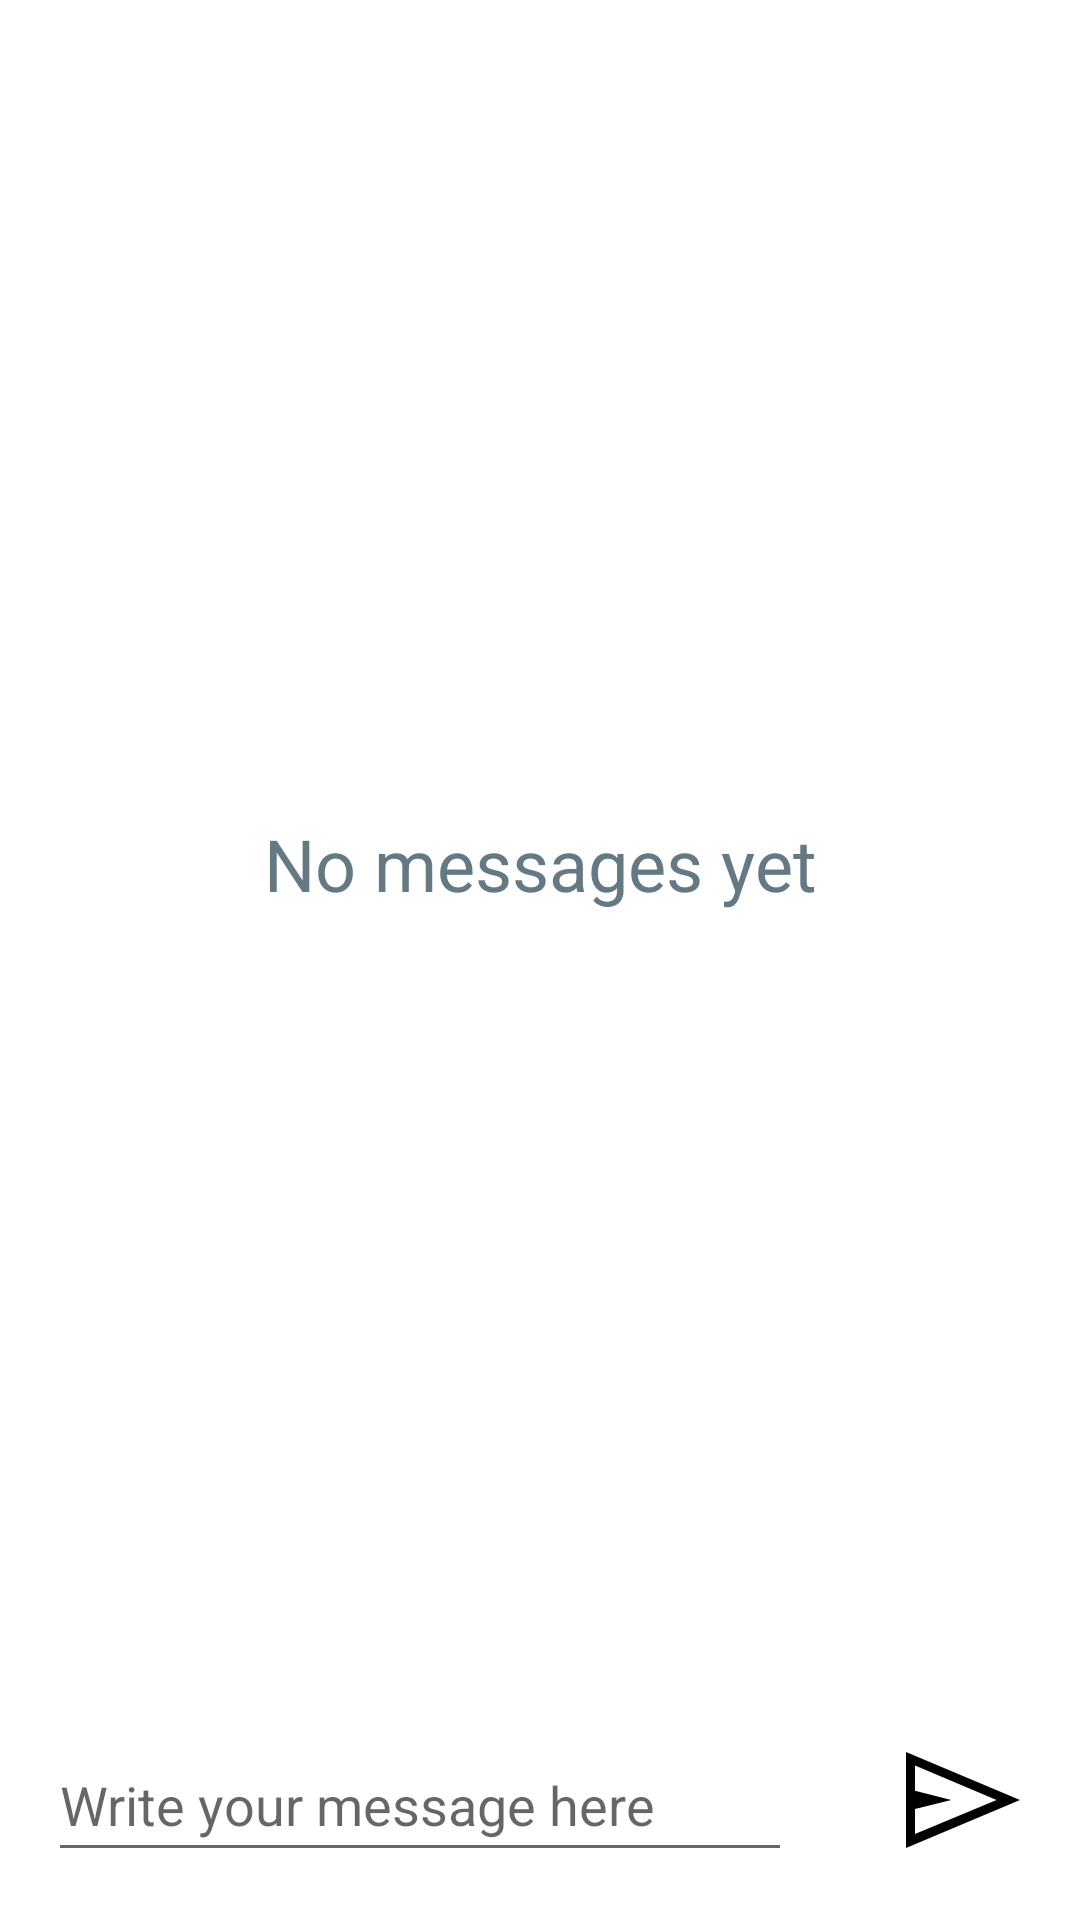

Where to tap for icons on this 1080*1920 app screen, as (x,y):
Button send message: (963,1800)
